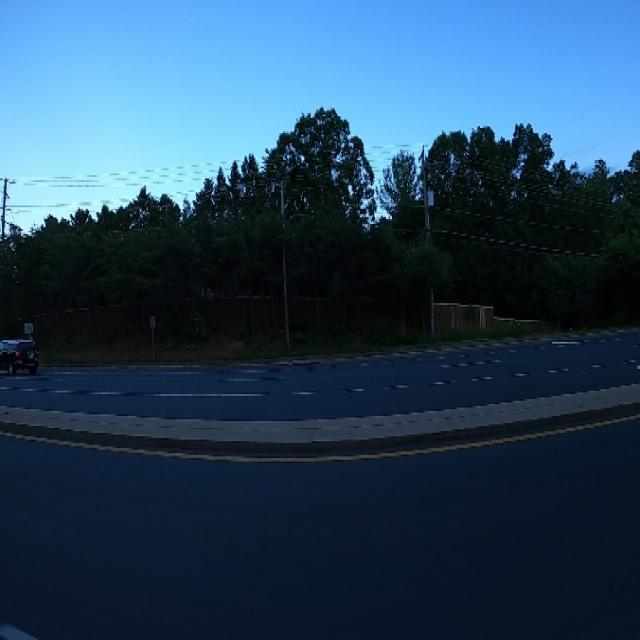cars: (0, 327, 43, 389)
